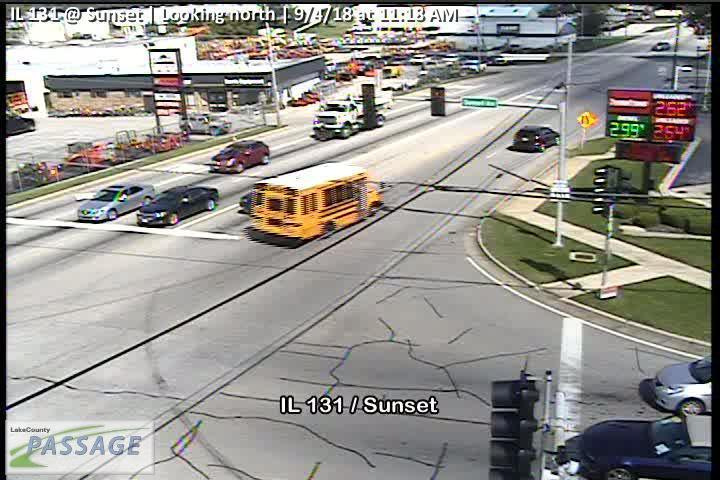SUV: (180, 111, 232, 137)
Sedan: (579, 410, 714, 480), (135, 184, 220, 228), (80, 183, 156, 224), (210, 140, 271, 174), (513, 125, 561, 153)
Truck: (246, 163, 386, 243), (313, 83, 385, 139)
